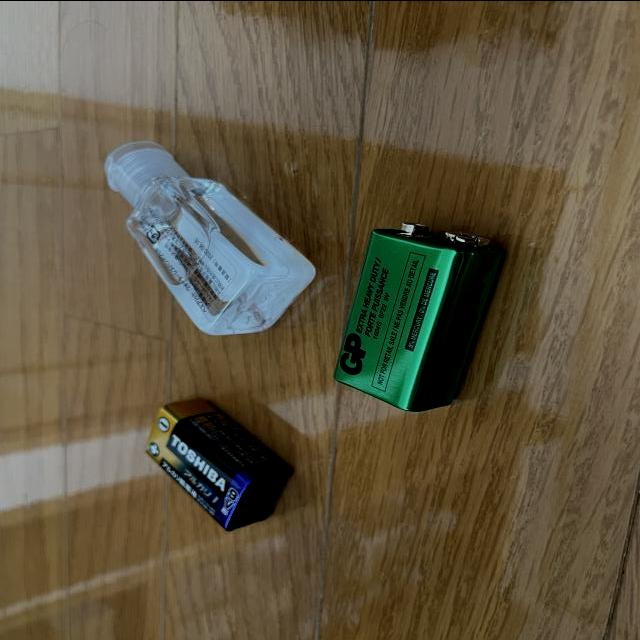9V: (334, 220, 507, 410), (144, 399, 288, 532)
